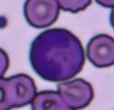E: (29, 28, 83, 81)
